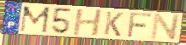5: (50, 8, 74, 35)
F: (126, 12, 153, 38)
H: (71, 8, 103, 36)
K: (103, 11, 125, 38)
M: (19, 6, 52, 34)
N: (150, 12, 182, 40)
